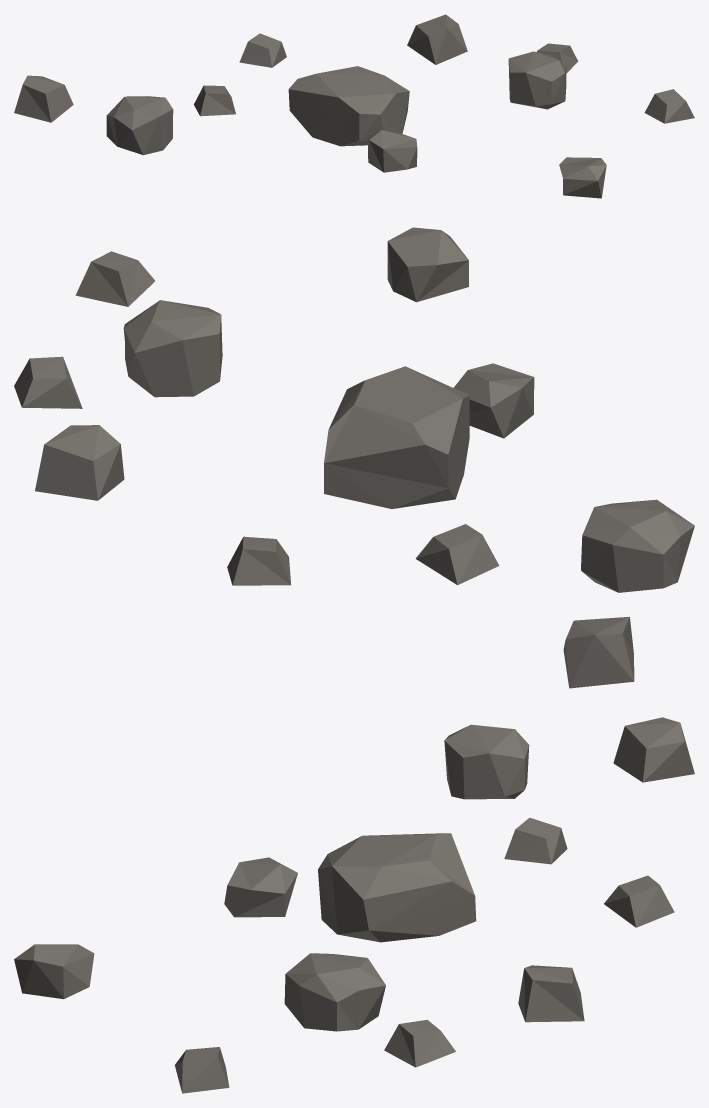
The model's file is pit_rubble_rocks.gltf.
3 renders of one model, top to bottom at view 1: azimuth 30°, elevation 25°; view 2: azimuth 150°, elevation 25°; view 3: azimuth 270°, elevation 25°, orthographic. The views are drawn at different scales.
Parts seen in each view (by area): view 1: pit_rubble_rocks; view 2: pit_rubble_rocks; view 3: pit_rubble_rocks.
Part boxes in pixels (x1,y1,x2,y2): pit_rubble_rocks: (14,14,694,198); pit_rubble_rocks: (14,227,694,688); pit_rubble_rocks: (14,717,694,1093).
Bounding box in the file's own units: 2.49 × 0.2811 × 2.09.
Materials: 1 (1 with a texture image).
